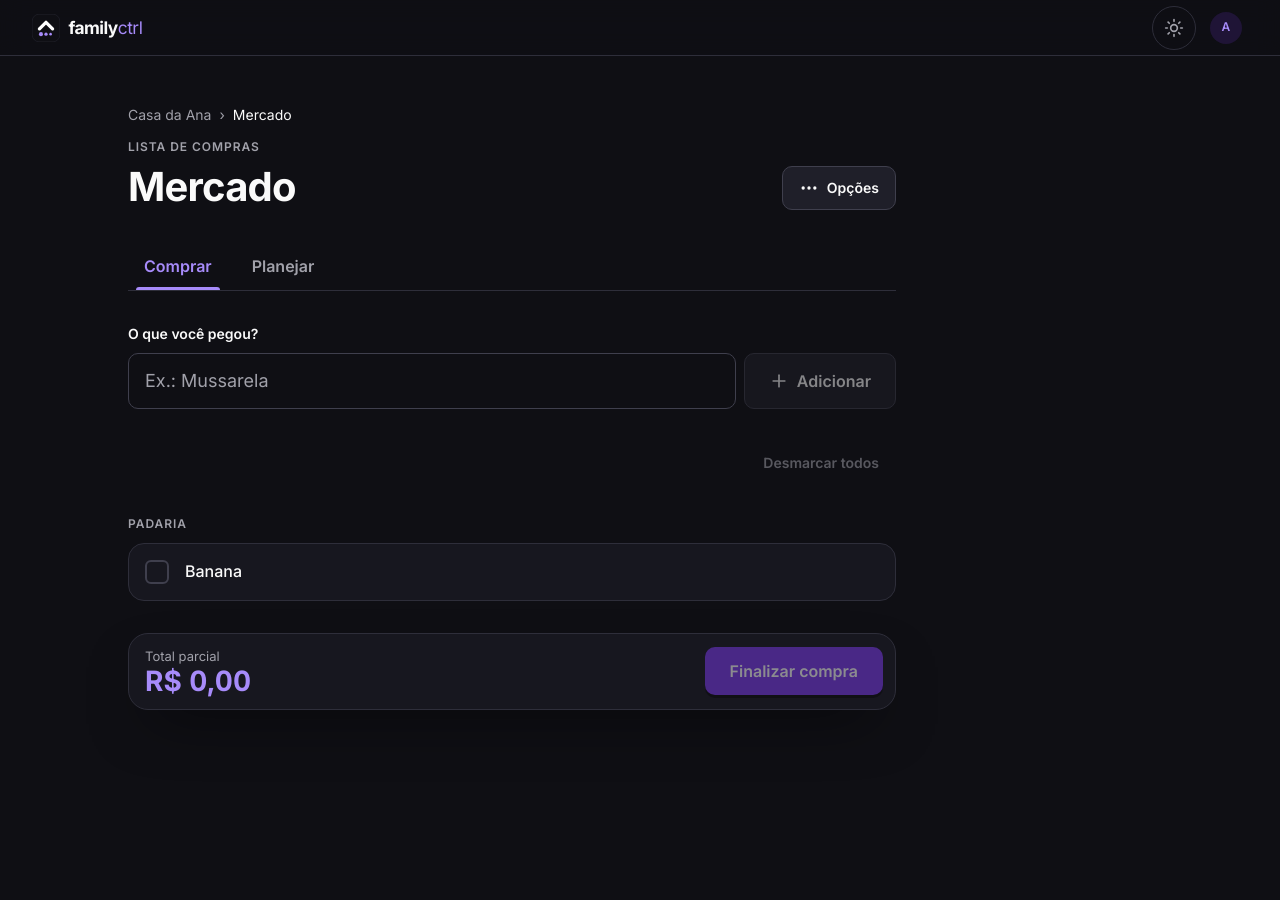
Test case: comprar › marca sem o preço, que fica para o caixa
The width and height of the screenshot is (1280, 900).
Click the checkbox named "Pegar Banana" at {"x": 157, "y": 572}, box [129,544,185,600]
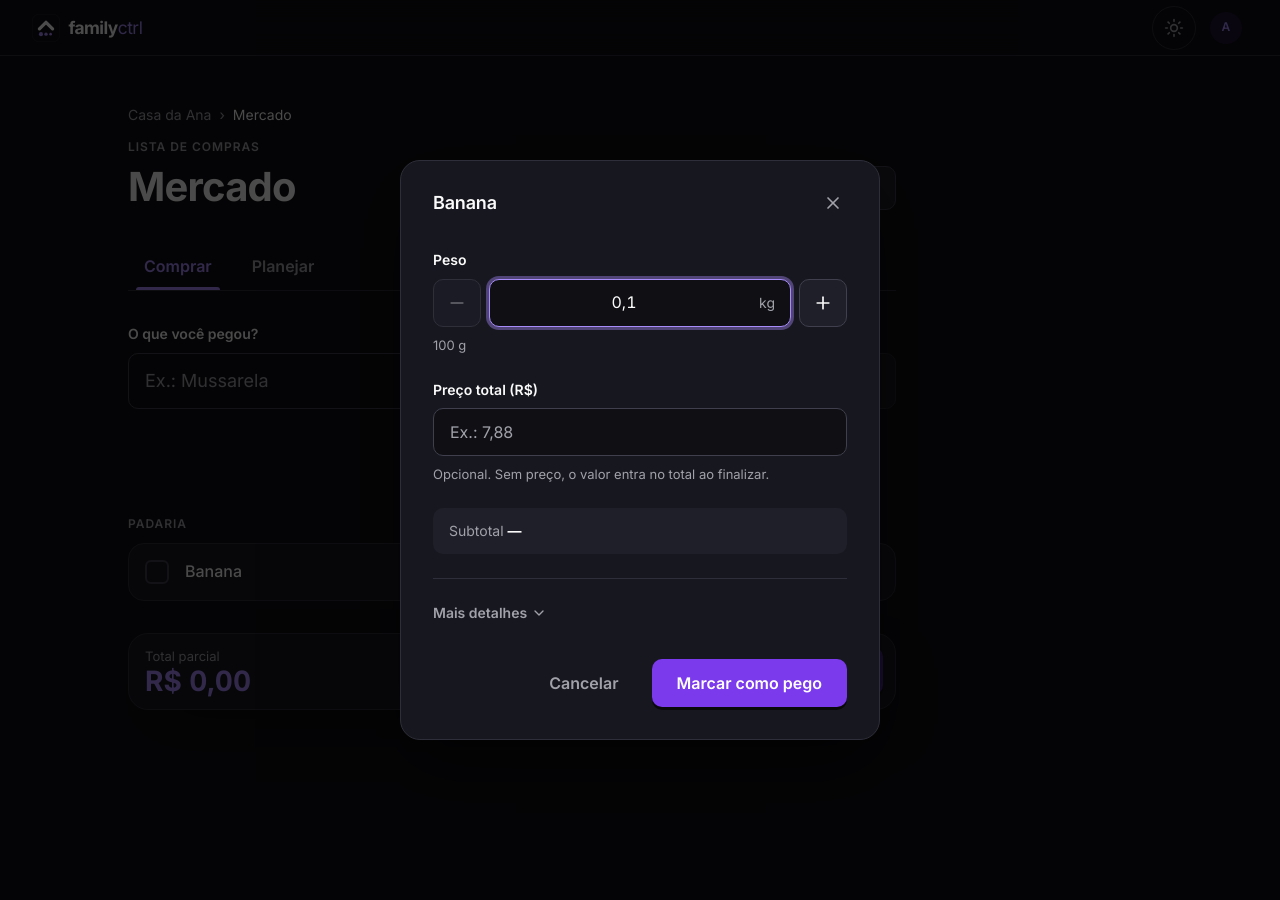
Click the button "Marcar como pego" at {"x": 749, "y": 683}, box [652,659,847,707]
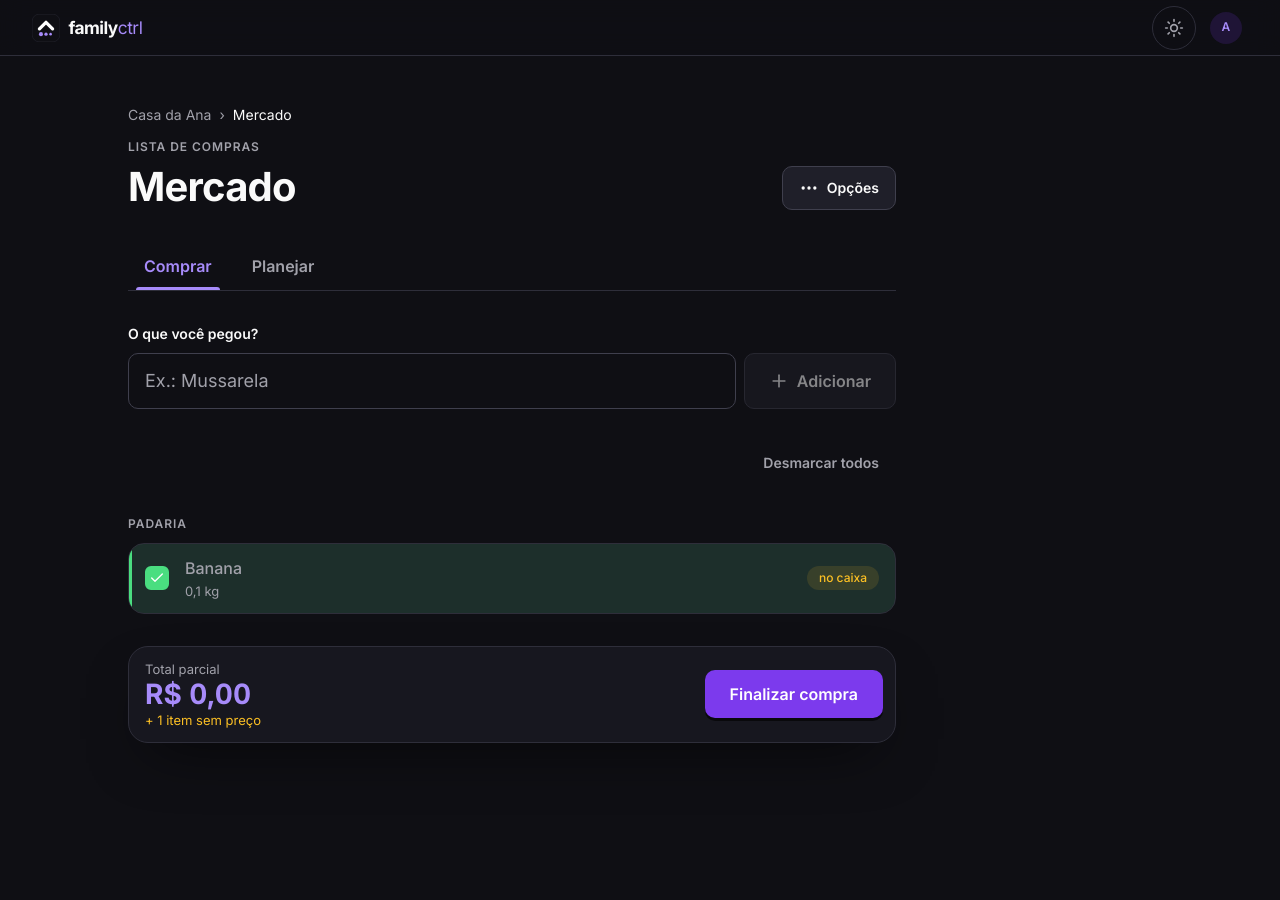
Expected: the checkbox named "Desmarcar Banana" is shown, [129,544,185,613]
Expected: the text "no caixa" is shown, [807,566,879,590]
